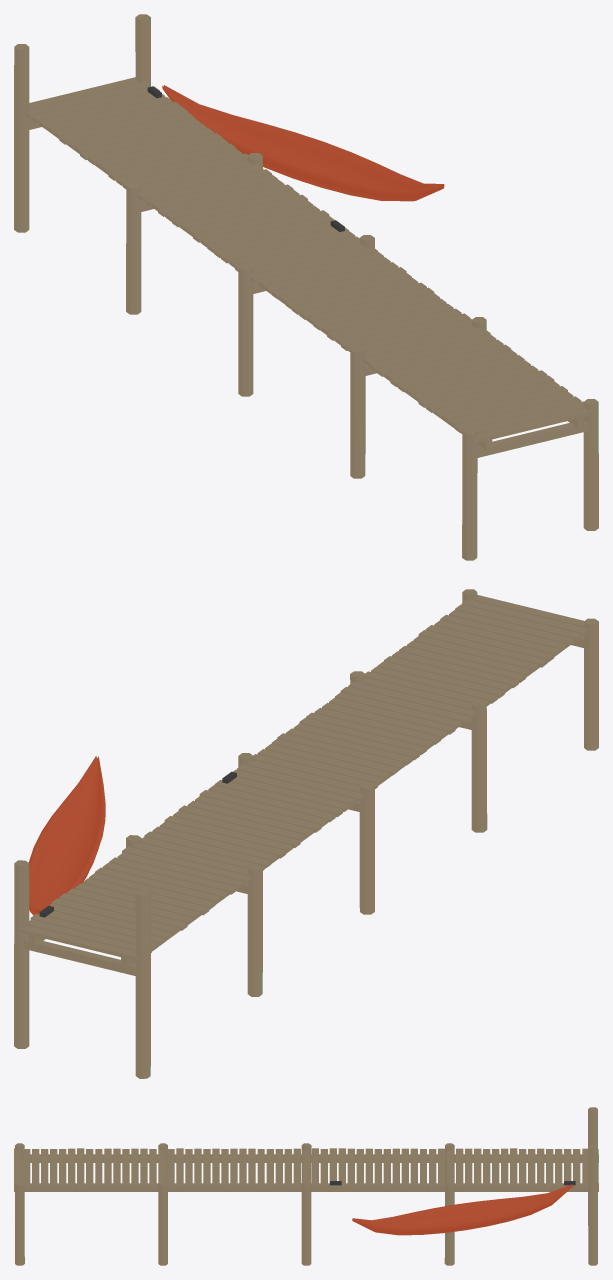
The model's file is Blender_Dock_1.glb.
The picture shows the model from 3 angles, top to bottom: view 1: azimuth 30°, elevation 25°; view 2: azimuth 150°, elevation 25°; view 3: azimuth 270°, elevation 25°; orthographic projection. The views are drawn at different scales.
Parts seen in each view (by area): view 1: Blender_Dock_1; view 2: Blender_Dock_1; view 3: Blender_Dock_1.
Boxes of the visible parts, bbox=[...] form: Blender_Dock_1: bbox=[14, 14, 598, 560]; Blender_Dock_1: bbox=[14, 589, 598, 1078]; Blender_Dock_1: bbox=[14, 1107, 598, 1265].
Size of the model in its own units: 3.65 by 2.65 by 12.
